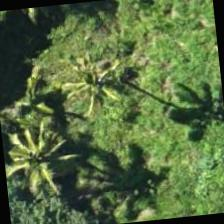Kelapa_Sawit: (87, 10, 186, 108), (0, 107, 82, 205)
